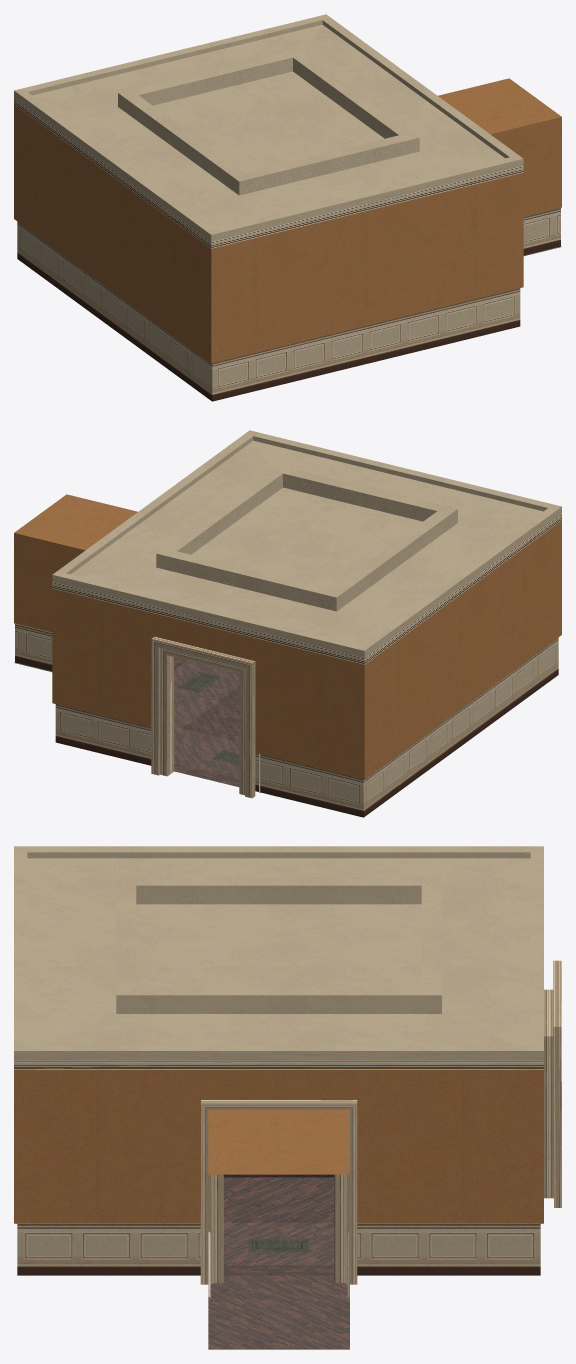
Rendered from Room_02.dae.
3 views of the same model, one above another, from view 1: azimuth 30°, elevation 25°; view 2: azimuth 150°, elevation 25°; view 3: azimuth 270°, elevation 25° (orthographic). The views are drawn at different scales.
Parts seen in each view (by area): view 1: Room_02 (×3); view 2: Room_02 (×6); view 3: Room_02 (×6).
Part boxes in pixels (x1,y1,x2,y2): Room_02 (×3): [14, 14, 561, 401]; Room_02 (×6): [14, 430, 561, 817]; Room_02 (×6): [14, 846, 561, 1349].
Bounding box in the file's own units: 1946 × 782 × 1626.
Materials: 11 (11 with a texture image).
